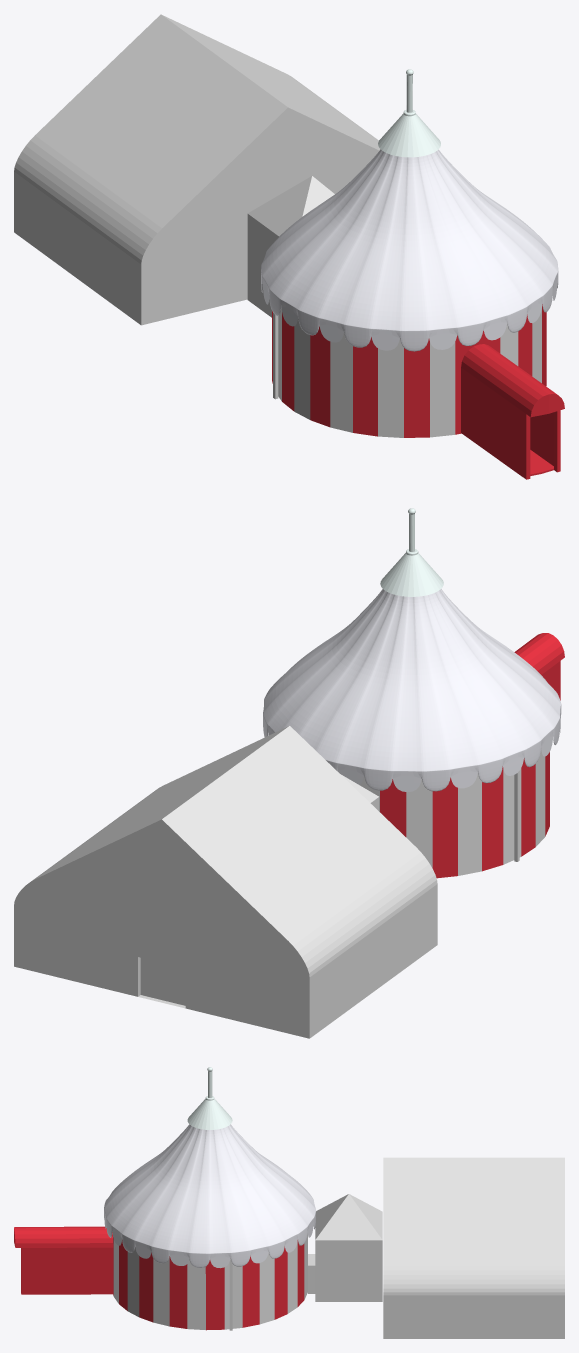
File: BigTop(Ver3.0 Subdivision Level 2).fbx
3 renders of one model, top to bottom at view 1: azimuth 30°, elevation 25°; view 2: azimuth 150°, elevation 25°; view 3: azimuth 270°, elevation 25°, orthographic. The views are drawn at different scales.
Parts seen in each view (by area): view 1: Backrooms, Top, Main Body, Hallway, Topper; view 2: Backrooms, Top, Main Body, Topper; view 3: Backrooms, Top, Main Body, Hallway, Topper.
Part boxes in pixels (x1,y1,x2,y2): Backrooms: (14, 14, 380, 325); Top: (261, 149, 558, 351); Main Body: (272, 304, 564, 479); Hallway: (247, 176, 334, 317); Topper: (378, 69, 440, 157); Backrooms: (14, 725, 437, 1038); Top: (263, 589, 561, 792); Main Body: (360, 633, 564, 878); Topper: (380, 508, 443, 596); Backrooms: (383, 1157, 564, 1338); Top: (104, 1124, 315, 1268); Main Body: (14, 1226, 315, 1330); Hallway: (315, 1194, 382, 1301); Topper: (187, 1067, 232, 1129).
Bounding box in the file's own units: 493 × 497 × 1122.
